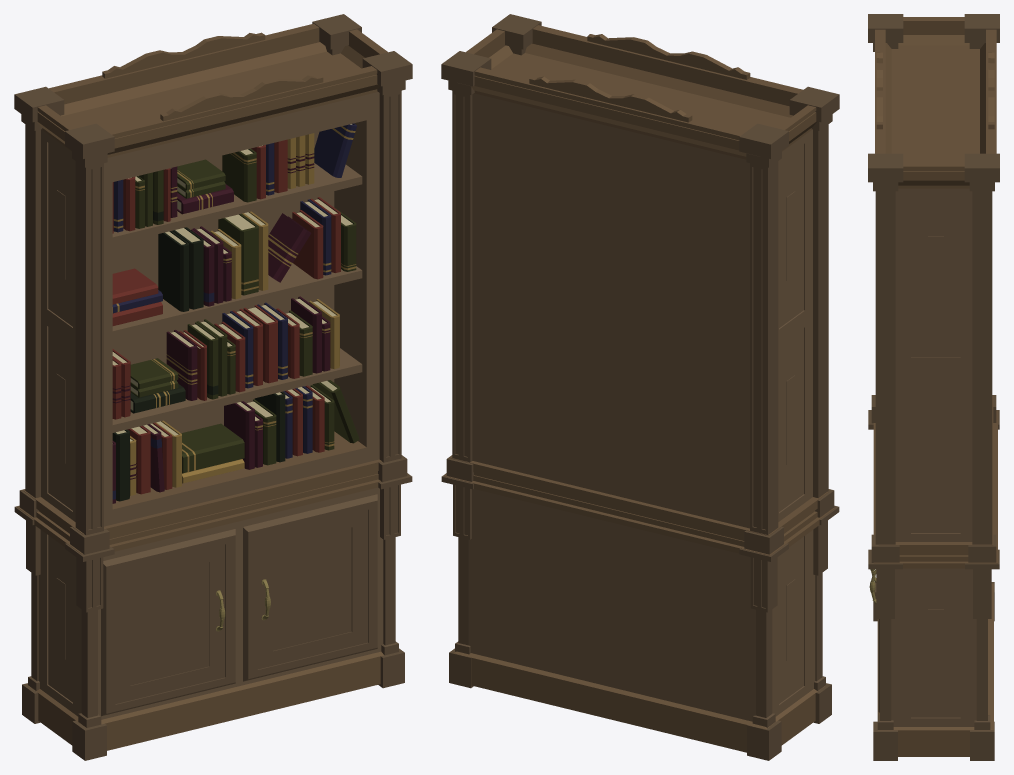
File: Cupboard.gltf
3 views of the same model, side by side, from view 1: azimuth 30°, elevation 25°; view 2: azimuth 150°, elevation 25°; view 3: azimuth 270°, elevation 25° (orthographic). The views are drawn at different scales.
Parts seen in each view (by area): view 1: BookCase_Single, BookCase_RightDoor, BookCase_LeftDoor; view 2: BookCase_Single; view 3: BookCase_Single, BookCase_RightDoor.
Boxes of the visible parts, x1,y1,x2,y2 form: BookCase_Single: (14,14,412,760); BookCase_RightDoor: (243,494,377,681); BookCase_LeftDoor: (101,529,235,716); BookCase_Single: (441,14,839,760); BookCase_Single: (868,14,999,760); BookCase_RightDoor: (869,569,879,712).
Size of the model in its own units: 1.84 by 3.37 by 0.6644.
